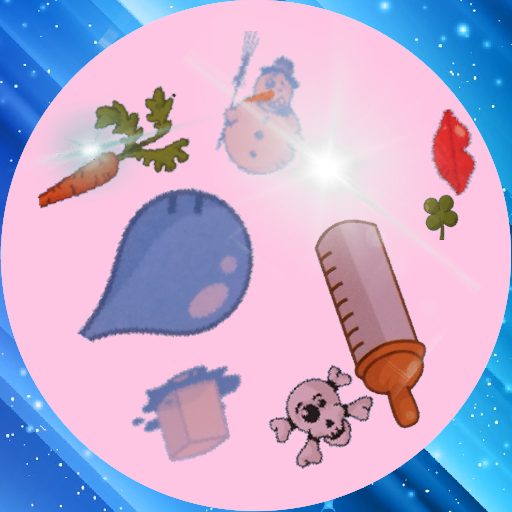bottle_icon: (262, 211, 486, 435)
carrot_icon: (34, 76, 209, 251)
cloverleaf_icon: (413, 192, 461, 240)
cube_icon: (129, 354, 258, 483)
lips_icon: (405, 109, 492, 196)
raindrop_icon: (67, 175, 264, 372)
skull_icon: (263, 354, 381, 472)
snowman_icon: (184, 31, 328, 175)
